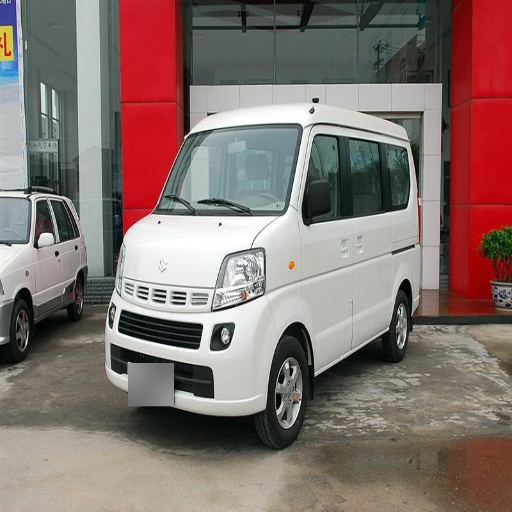front_bumper: (107, 276, 280, 415)
front_glass: (155, 125, 302, 214)
front_left_door: (300, 127, 363, 364), (34, 198, 62, 308)
